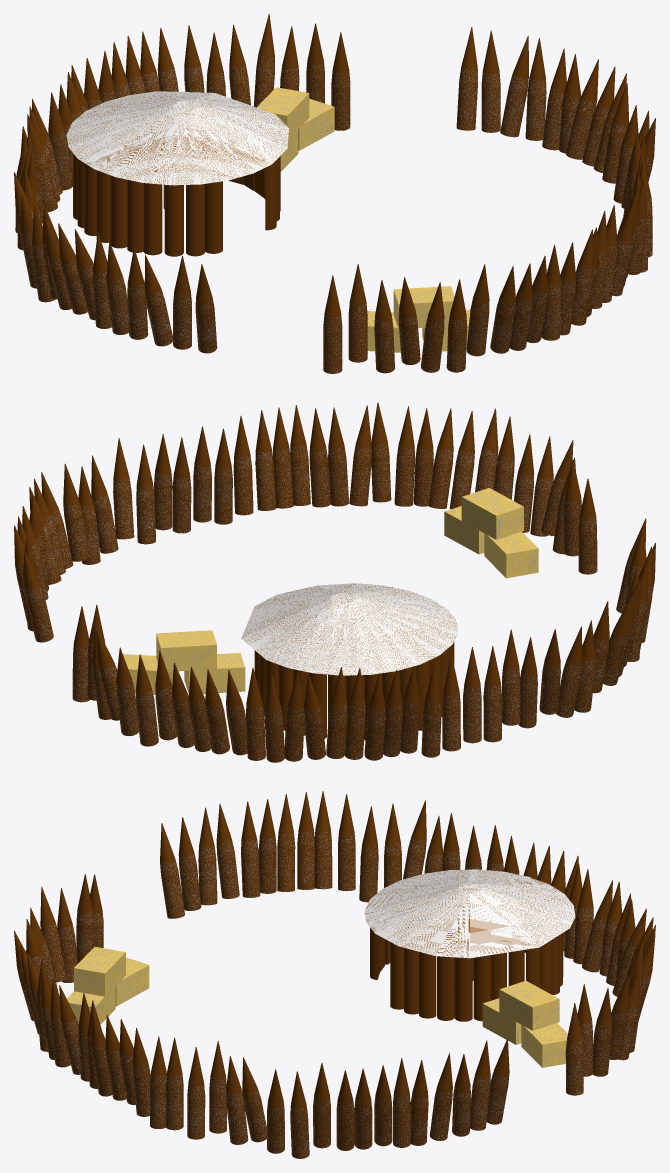
Rendered from tribal_barracks.dae.
3 views of the same model, one above another, from view 1: azimuth 30°, elevation 25°; view 2: azimuth 150°, elevation 25°; view 3: azimuth 270°, elevation 25° (orthographic). The views are drawn at different scales.
Parts seen in each view (by area): view 1: SketchUp (×53); view 2: SketchUp (×61); view 3: SketchUp (×56).
Part boxes in pixels (x1,y1,x2,y2): SketchUp (×53): (32, 55, 647, 373); SketchUp (×61): (24, 442, 629, 762); SketchUp (×56): (40, 830, 628, 1158).
Size of the model in its own units: 430 by 429 by 80.54.
